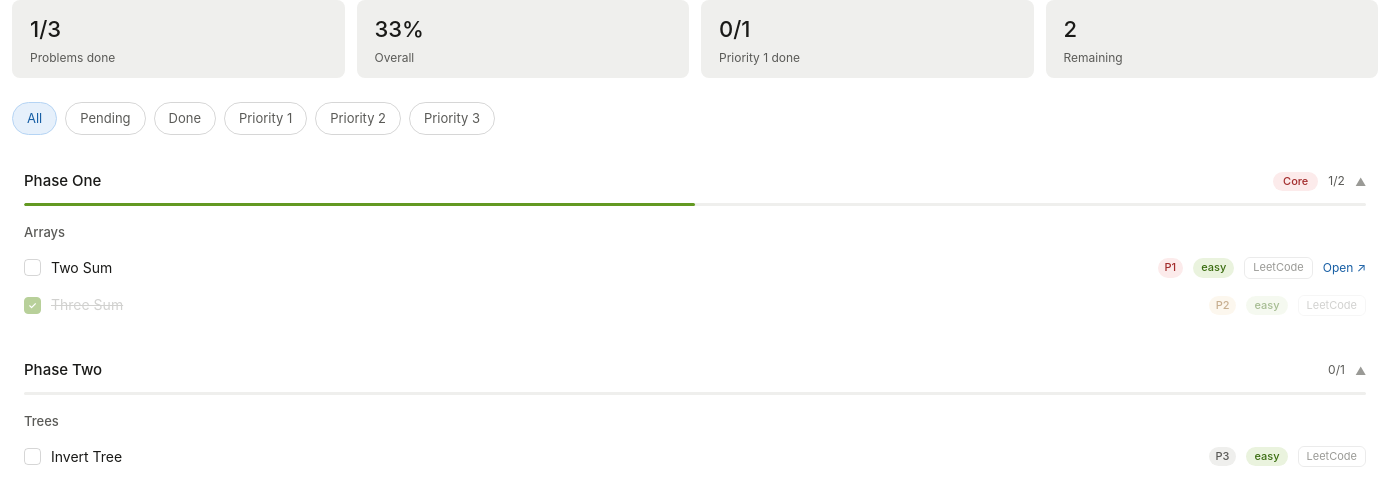
Scenario: <TrackerBoard /> › filters by status and priority, hiding empty phases
Step 1. Click the button "Done" → coordinates (185, 118), box [154,102,216,135]
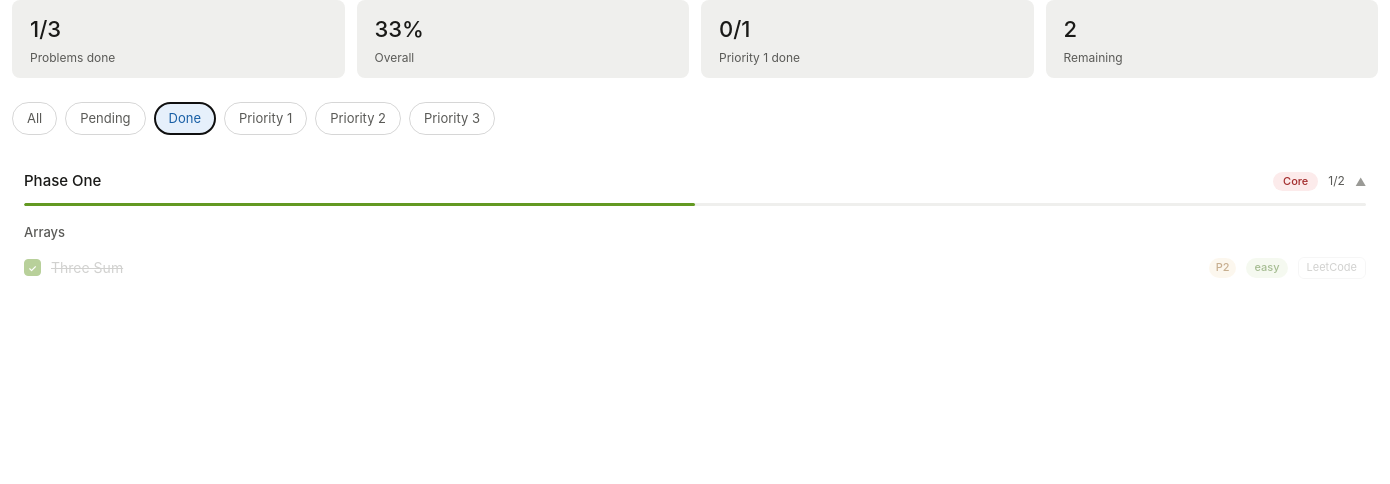
Expected: the text "Three Sum" is shown, [51,259,123,276]
Expected: the text "Two Sum" is gone
Expected: the button "Phase Two" is gone
Step 2. Click the button "Priority 3" → coordinates (452, 118), box [409,102,495,135]
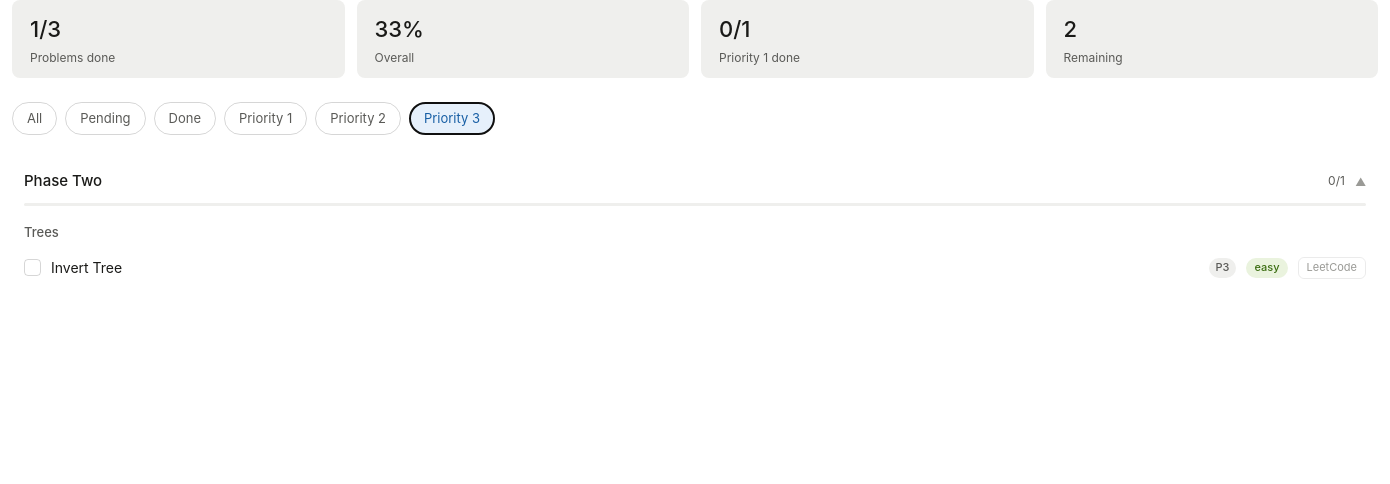
Expected: the text "Phase Two" is shown, [24,171,102,190]
Expected: the button "Phase One" is gone
